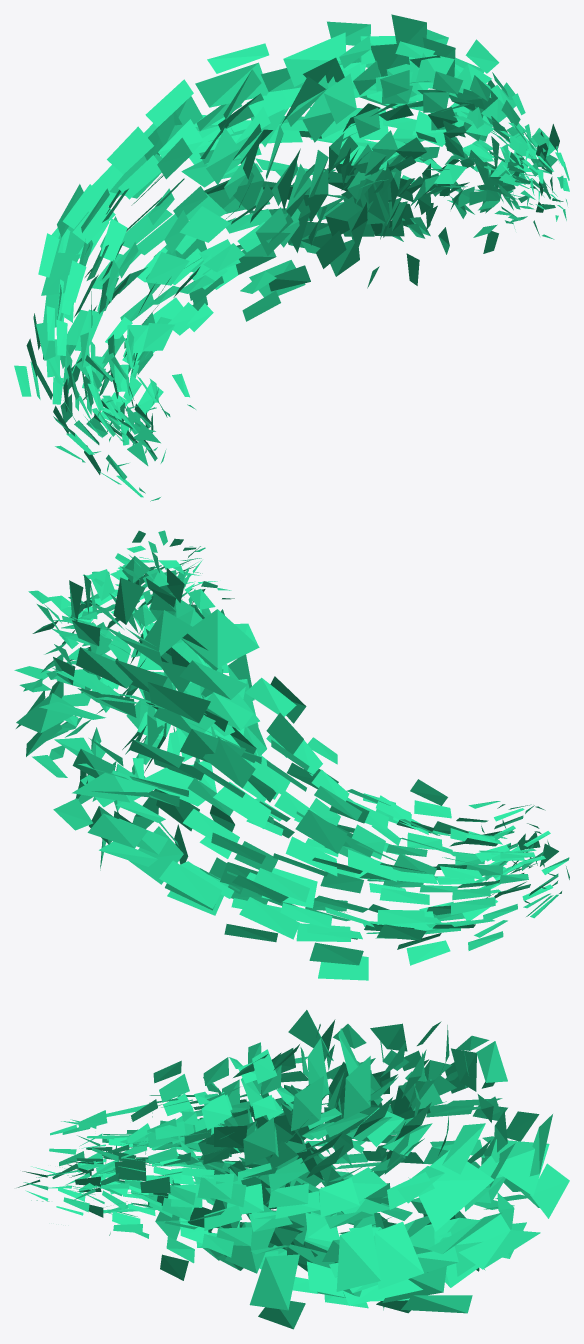
Rendered from swirly 1.fbx.
The picture shows the model from 3 angles, top to bottom: view 1: azimuth 30°, elevation 25°; view 2: azimuth 150°, elevation 25°; view 3: azimuth 270°, elevation 25°; orthographic projection. The views are drawn at different scales.
Visible parts, largest first — view 1: Loft, Cap_1; view 2: Loft, Cap_1; view 3: Loft.
Boxes of the visible parts, left/top/right/bottom form: Loft: left=14, top=14, right=569, bottom=497; Cap_1: left=81, top=387, right=195, bottom=501; Loft: left=14, top=530, right=569, bottom=980; Cap_1: left=481, top=804, right=569, bottom=903; Loft: left=17, top=1010, right=569, bottom=1329.
Bounding box in the file's own units: 963 × 615 × 801.
